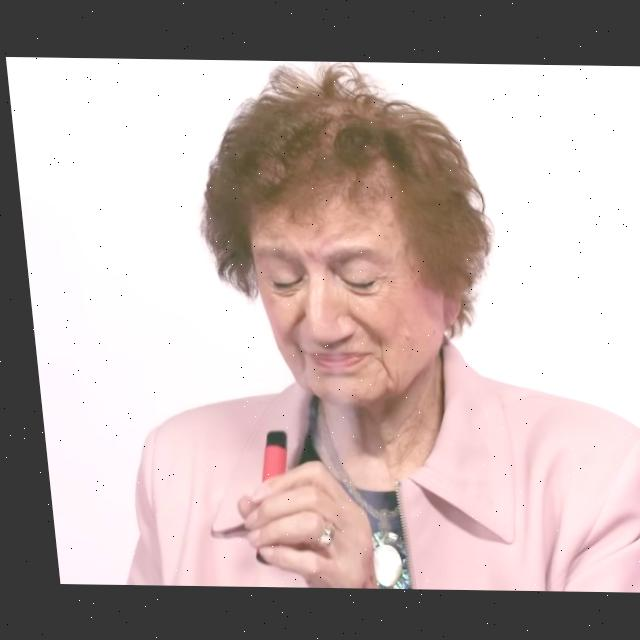vape: (246, 428, 282, 479)
